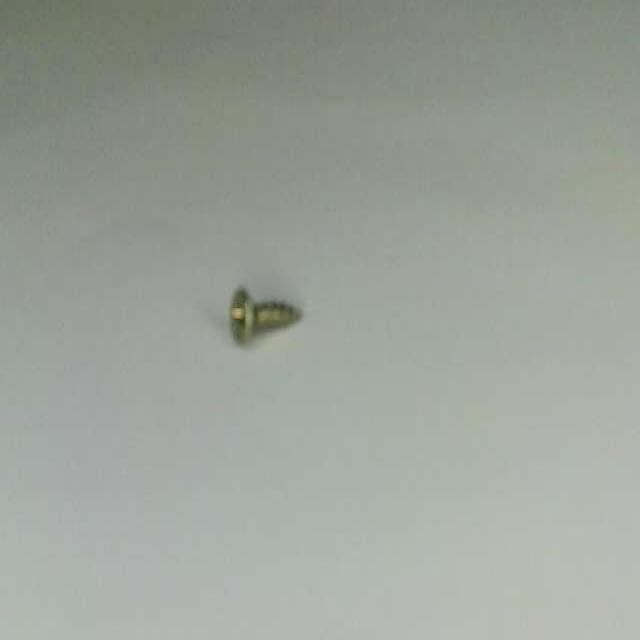Parafuso: (230, 288, 299, 341)
